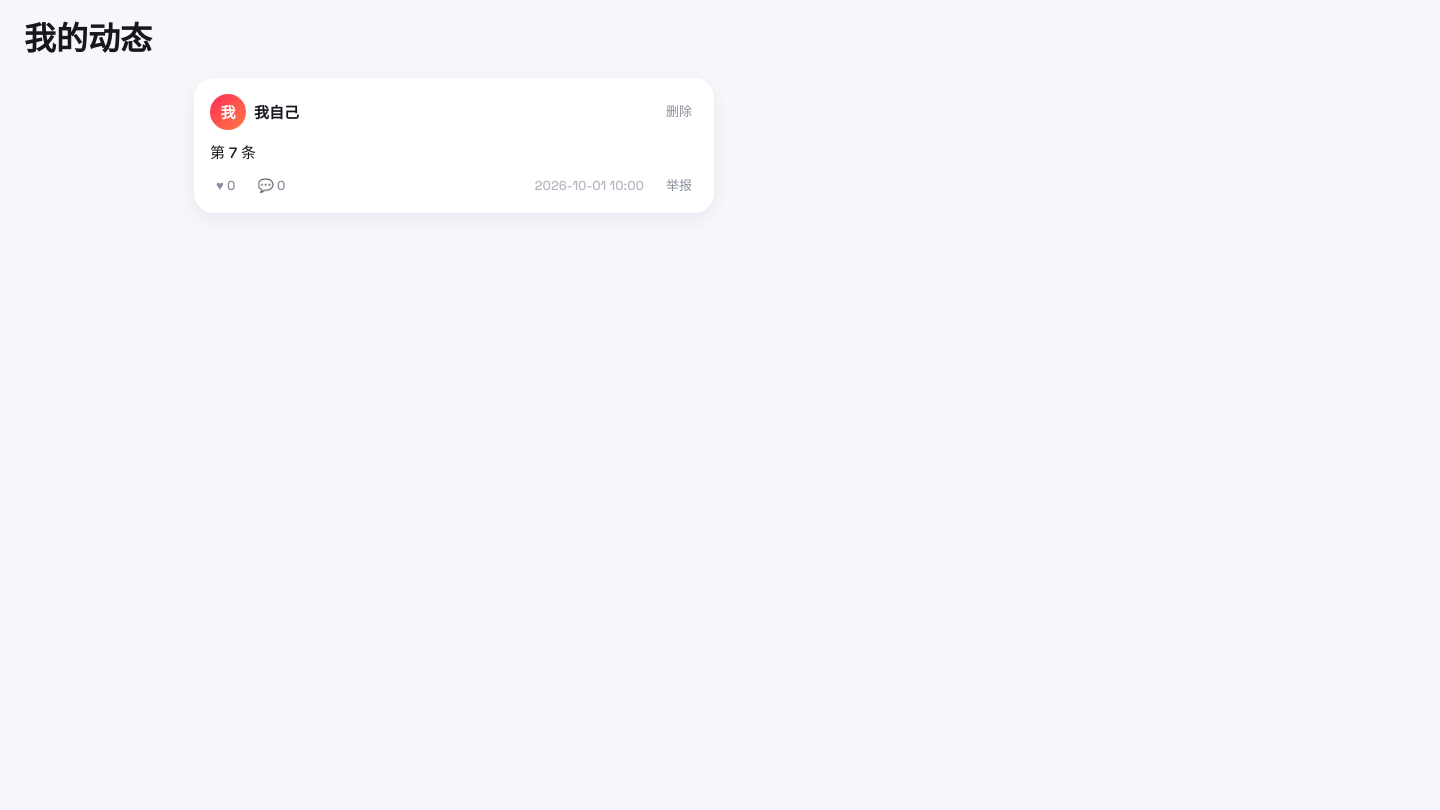
Test: MyPostsPage › 举报走 /posts/{id}/report 并给出回执
Click the button "举报": (679, 186) [660, 176, 698, 197]
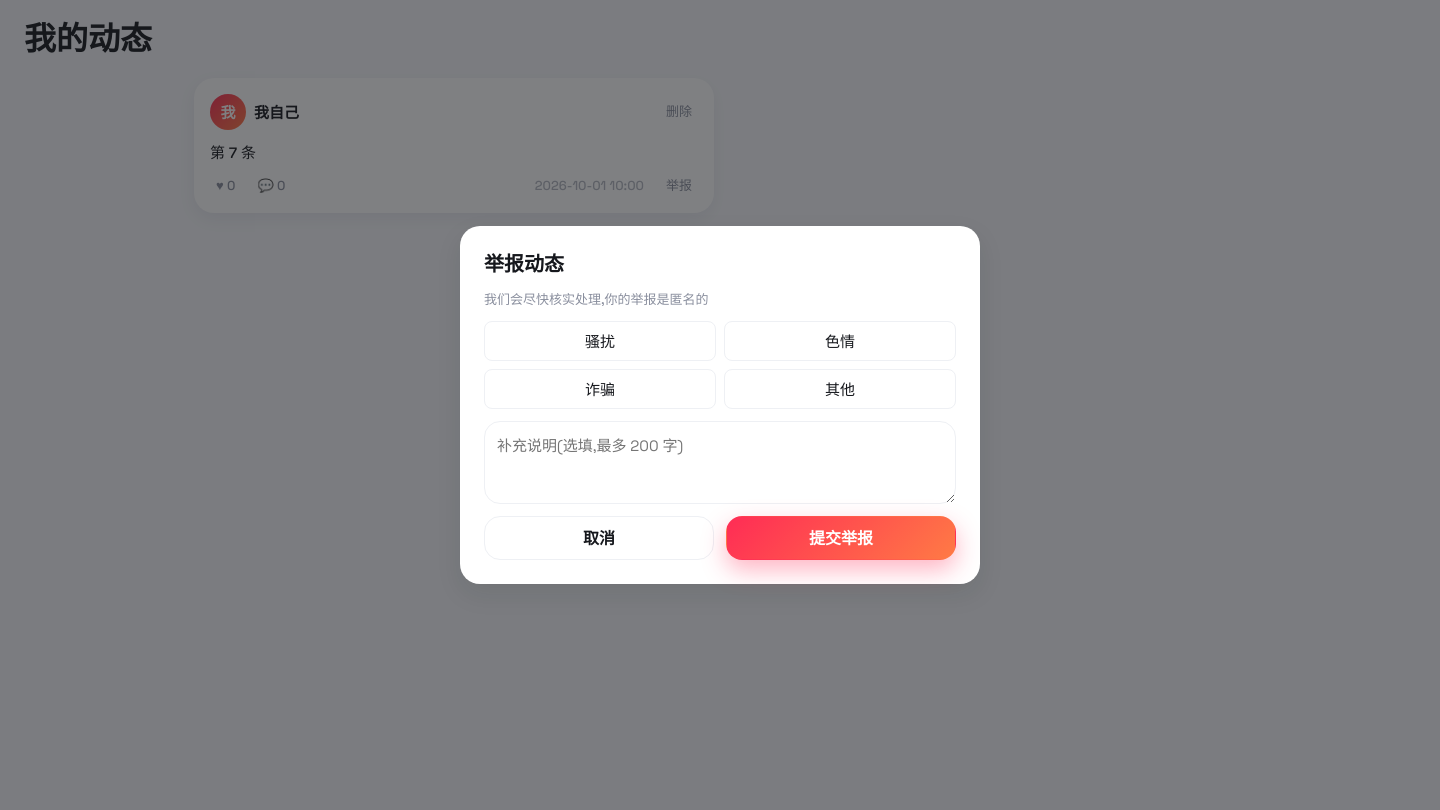
// 弹窗里选一个理由并提交
Click the button with class "report-dialog__reason" showing "骚扰": (600, 341) [484, 321, 716, 361]
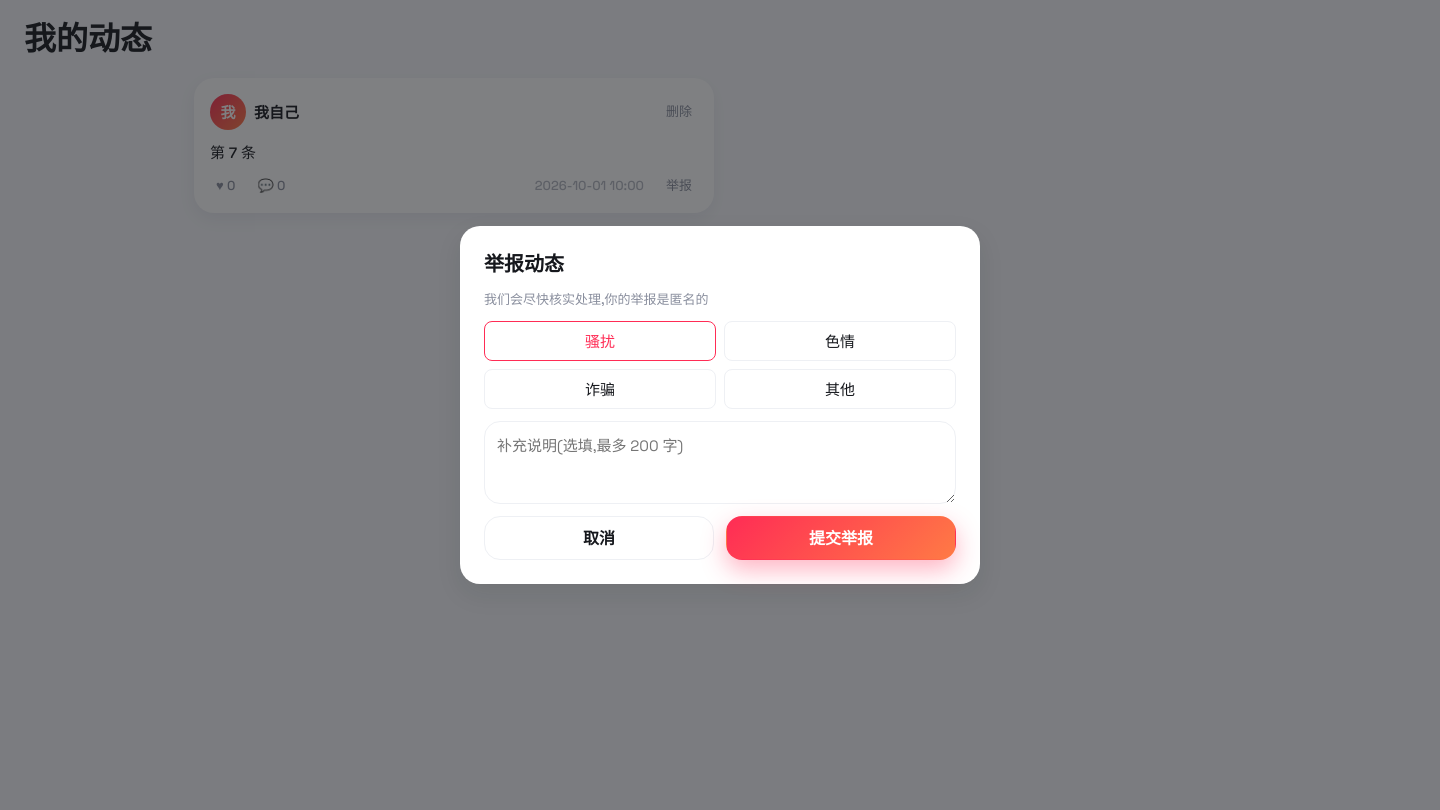
Click the button with class "report-dialog__submit": (841, 538) [726, 516, 956, 560]
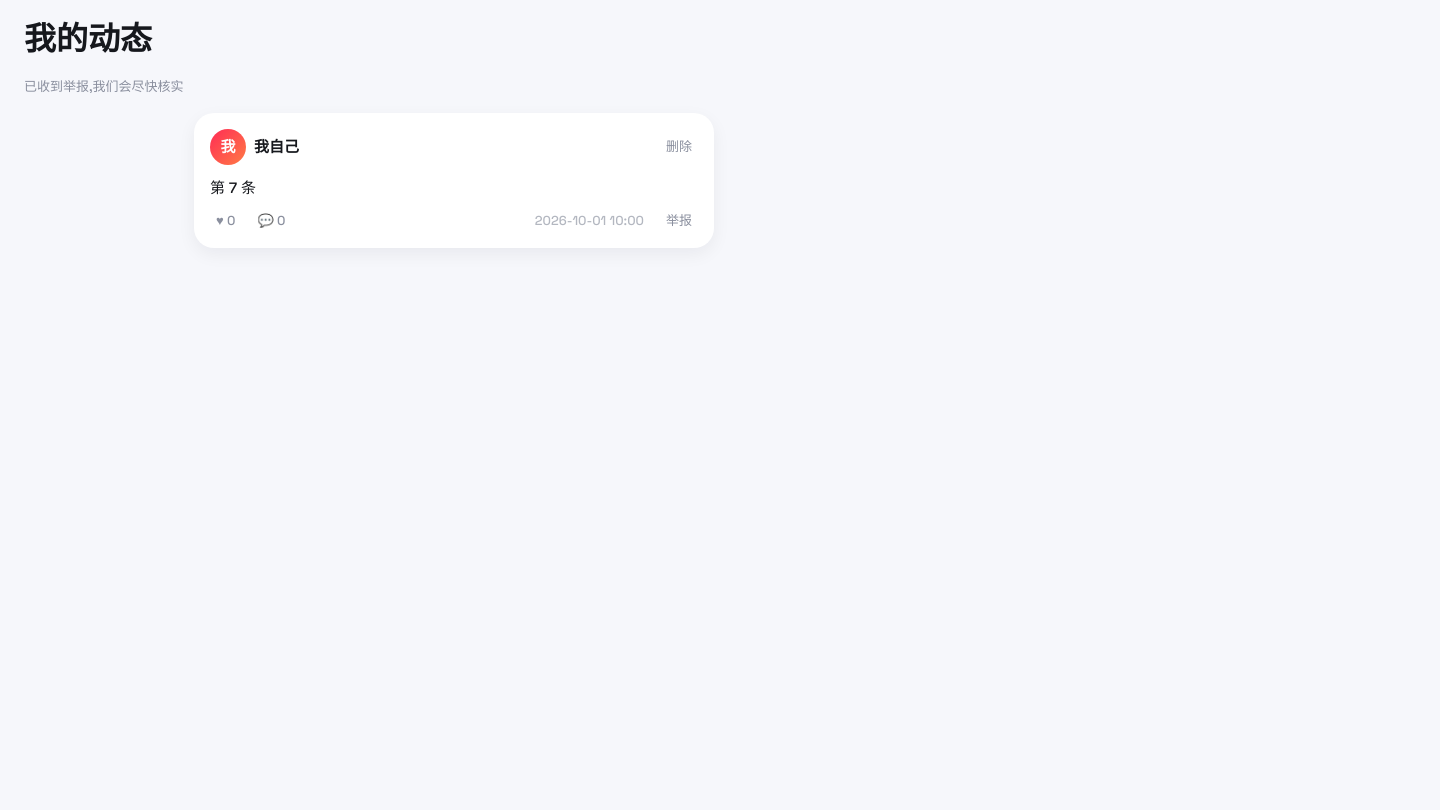
Now the text "已收到举报,我们会尽快核实" is shown, box [24, 78, 184, 95]
